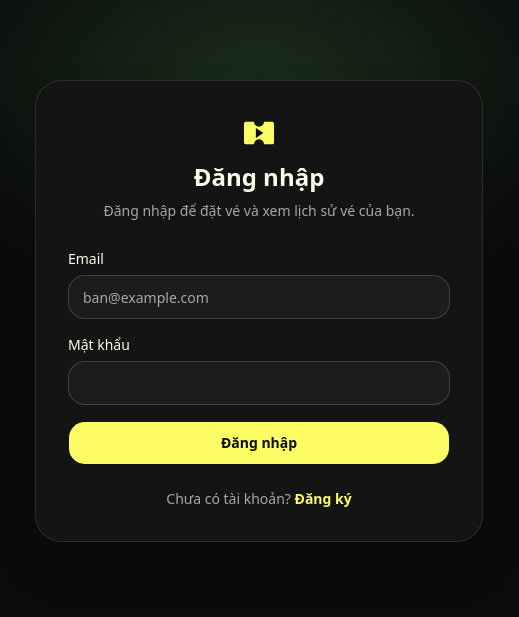
Test: Login form › wrong credentials: an alert on the form, the visitor stays on the page
Type "an@example.com" into the field labelled "Email" at [259, 297], box [68,275,450,319]
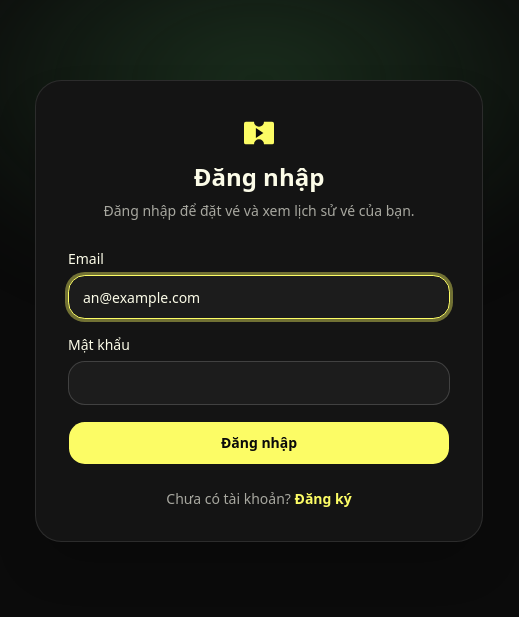
Type "mat-khau-dai" into the password field labelled "Mật khẩu" at [259, 383], box [68,361,450,405]
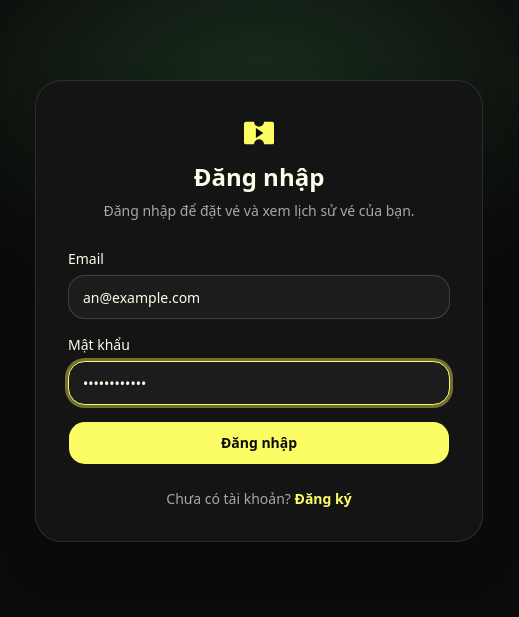
Click the button "Đăng nhập" at [259, 443], box [68,421,450,465]
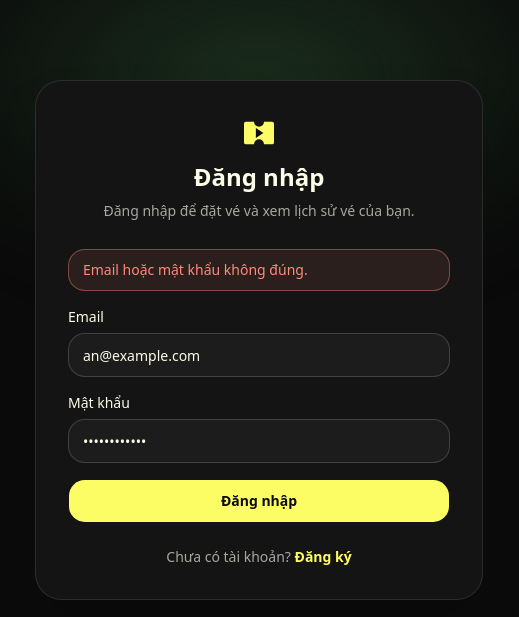
Check: the message reads "Email hoặc mật khẩu không đúng.", box [83,260,308,279]
